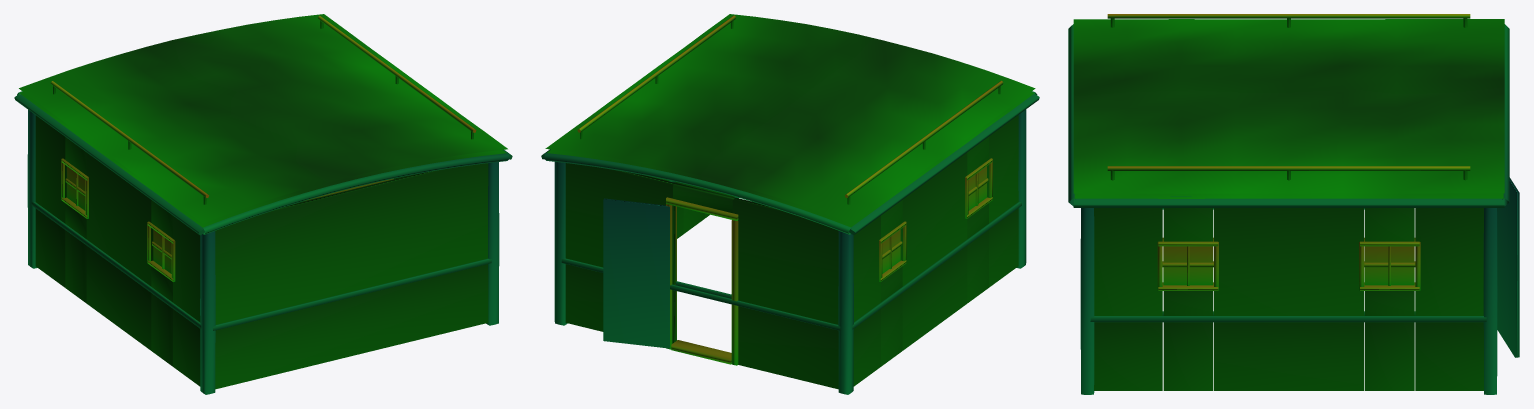
Rendered from ferry_deckhouse.glb.
3 renders of one model, left to right at view 1: azimuth 30°, elevation 25°; view 2: azimuth 150°, elevation 25°; view 3: azimuth 270°, elevation 25°, orthographic. The views are drawn at different scales.
Parts seen in each view (by area): view 1: ferry_deckhouse; view 2: ferry_deckhouse; view 3: ferry_deckhouse.
Part boxes in pixels (bbox=[...]): ferry_deckhouse: bbox=[14, 14, 512, 394]; ferry_deckhouse: bbox=[541, 14, 1039, 394]; ferry_deckhouse: bbox=[1068, 14, 1519, 394].
Size of what is drawn, in the model's own units: 4.2 by 2.43 by 4.48.
